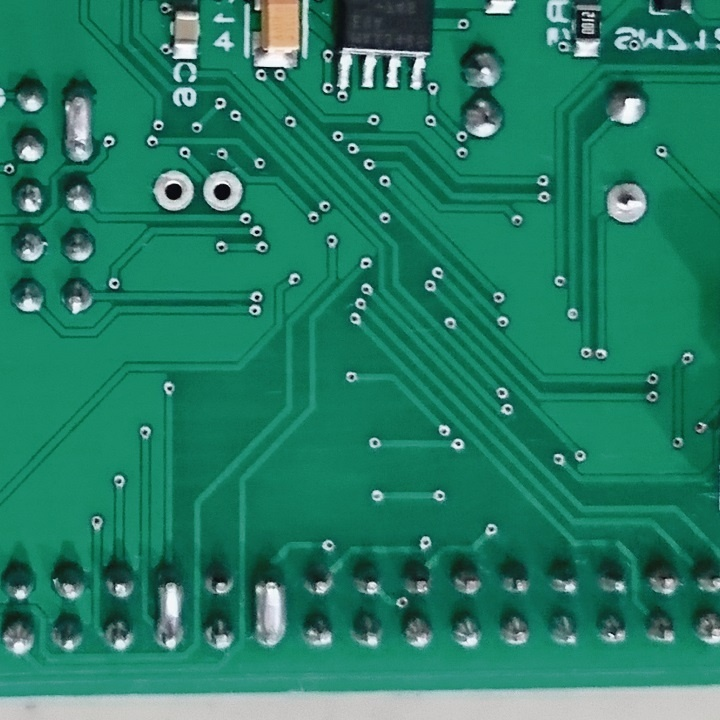F: (201, 166, 247, 217), (602, 180, 651, 227), (150, 169, 196, 212)
P: (59, 75, 99, 170), (251, 564, 290, 654), (150, 564, 187, 655)
